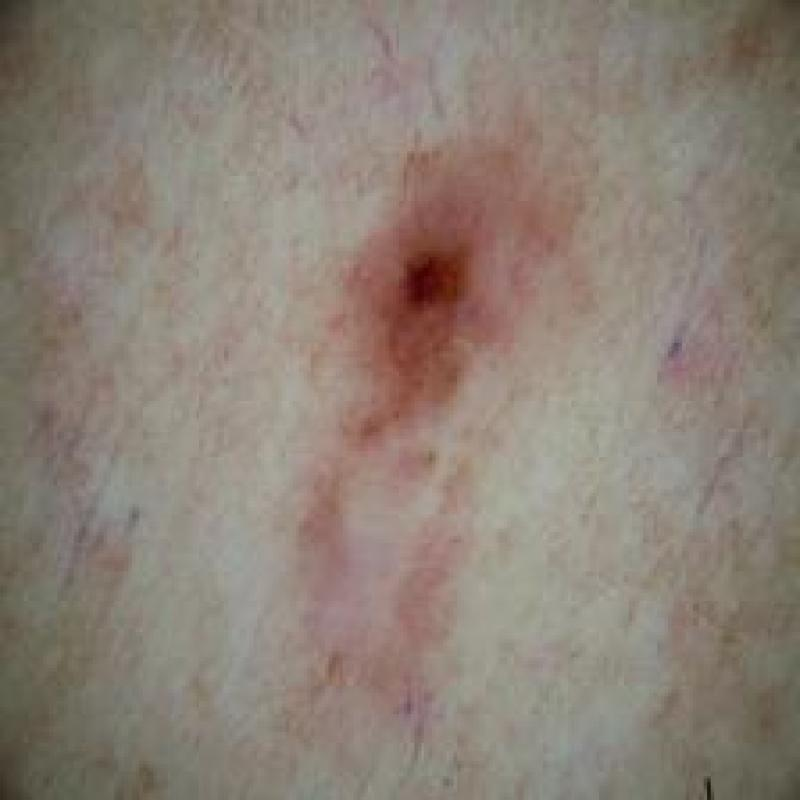malignant: (294, 109, 564, 462)
